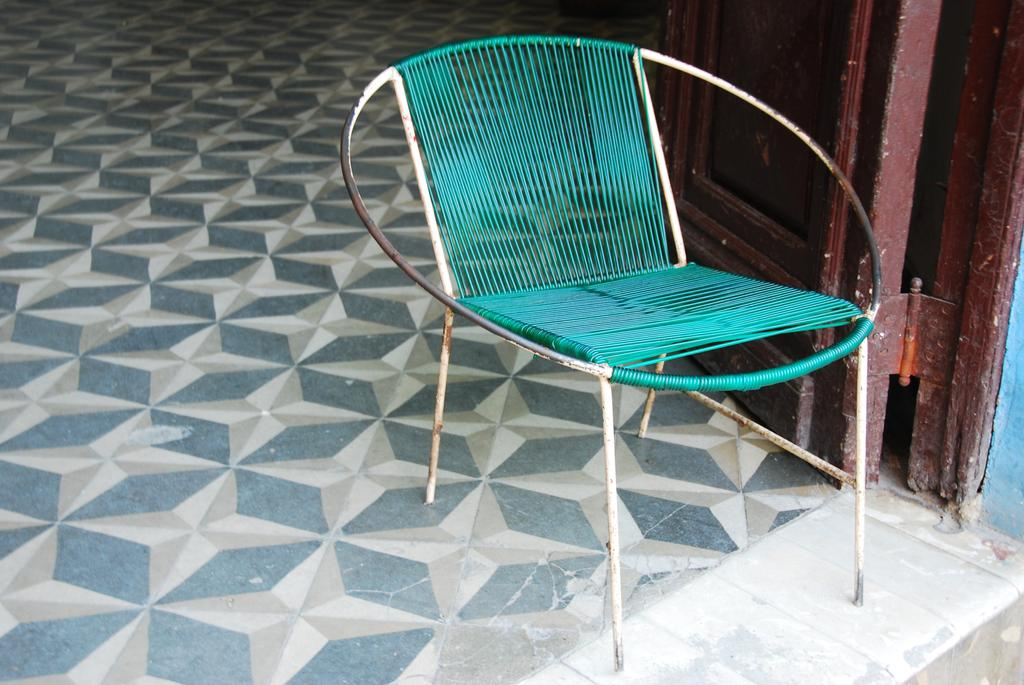Chair: (253, 16, 831, 568)
